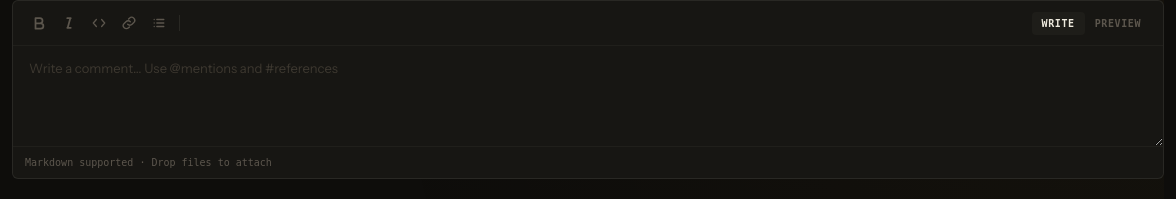
Test: MarkdownEditor › shows empty preview message when value is empty
Click the button "Preview" at (1118, 23), box [1085, 12, 1151, 34]
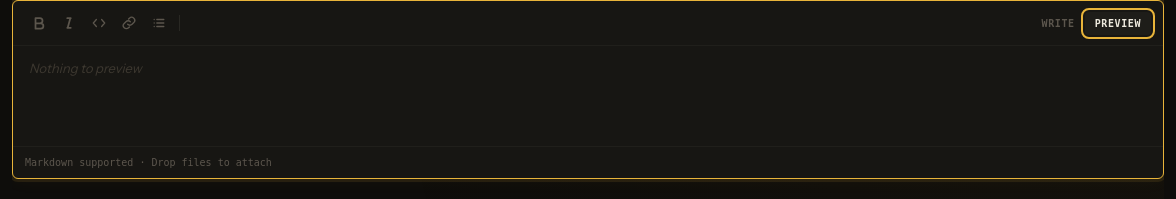
Expected: the text "Nothing to preview" is shown, [29, 60, 142, 76]
